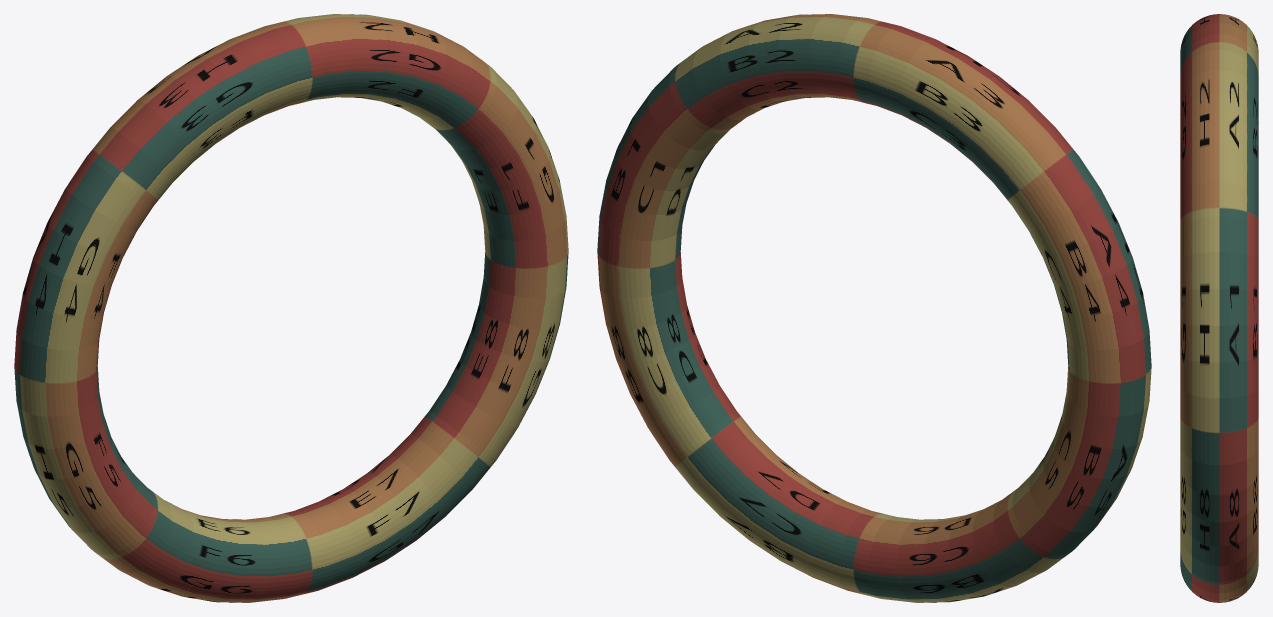
The model's file is texture_torus_R28_r9.glb.
3 views of the same model, side by side, from view 1: azimuth 30°, elevation 25°; view 2: azimuth 150°, elevation 25°; view 3: azimuth 270°, elevation 25° (orthographic). The views are drawn at different scales.
Visible parts, largest first — view 1: world; view 2: world; view 3: world.
Part boxes in pixels (<box>): world: <box>14,14,568,602</box>; world: <box>597,14,1151,602</box>; world: <box>1180,14,1258,602</box>.
Bounding box in the file's own units: 33.07 × 33 × 4.39.
1 material, 1 textured.
